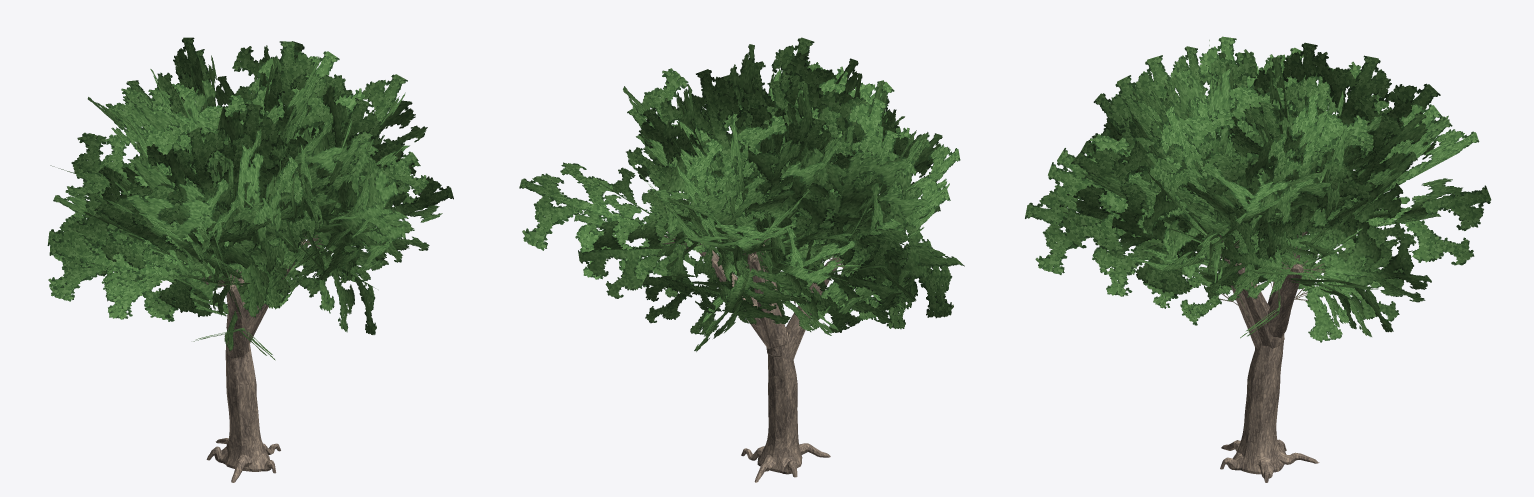
Rendered from environment_elm2_v76.fbx.
The picture shows the model from 3 angles, left to right: view 1: azimuth 30°, elevation 25°; view 2: azimuth 150°, elevation 25°; view 3: azimuth 270°, elevation 25°; orthographic projection. The views are drawn at different scales.
Parts seen in each view (by area): view 1: environment_elm2_v76_lod0; view 2: environment_elm2_v76_lod0; view 3: environment_elm2_v76_lod0.
Boxes of the visible parts, box(x1,y1,x2,y2) form: environment_elm2_v76_lod0: box(47, 37, 453, 482); environment_elm2_v76_lod0: box(519, 37, 964, 482); environment_elm2_v76_lod0: box(1025, 36, 1491, 482).
Size of what is drawn, in the model's own units: 2800 by 2433 by 2650.
2 materials, 2 textured.
